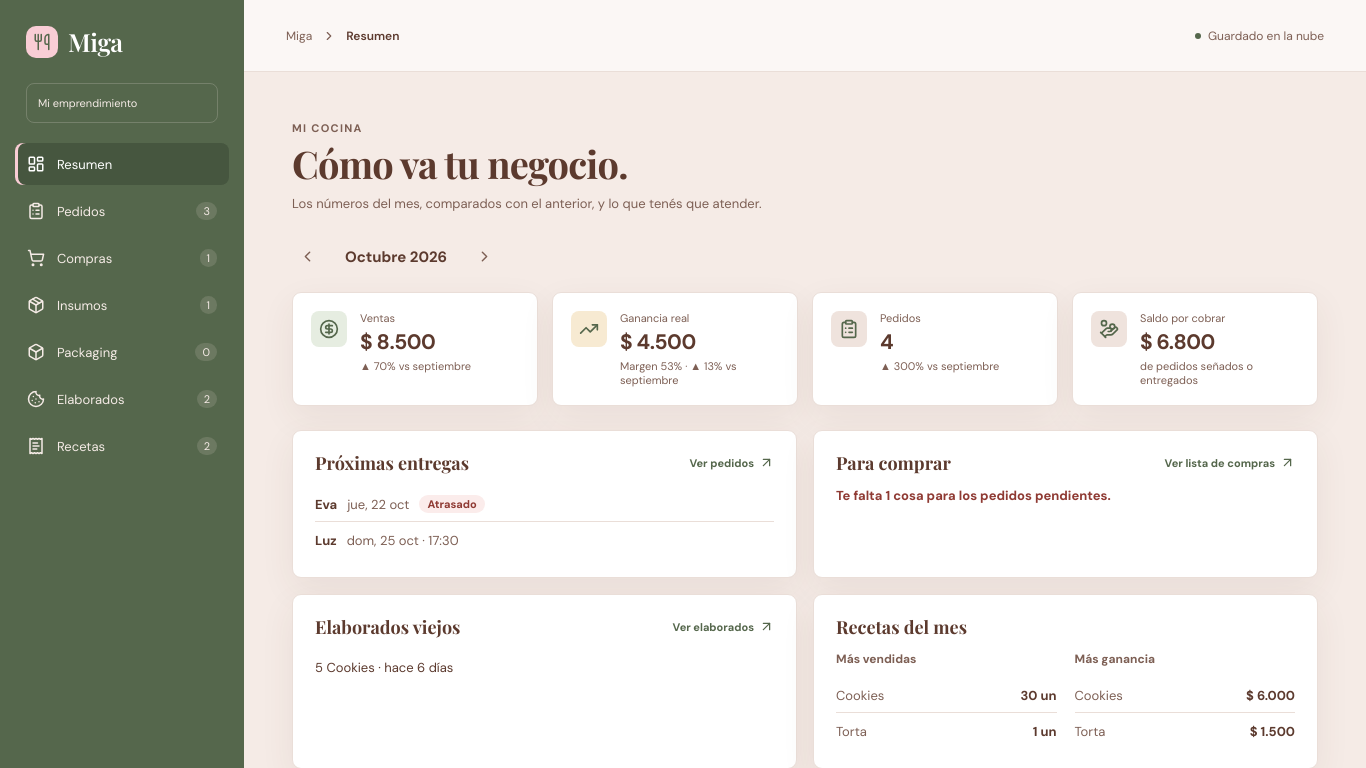
Test: Dashboard › points to the shopping list when something is missing
Check: the element "Para comprar" shows "Te falta 1 cosa para los pedidos pendientes.", box 836,487 -> 1111,504
What coordinates should you click on to do the following:
click the link "Ver lista de compras"
I would click on:
 (1230, 463)
Its box is 1165,451 -> 1295,474.
(page scrolled)
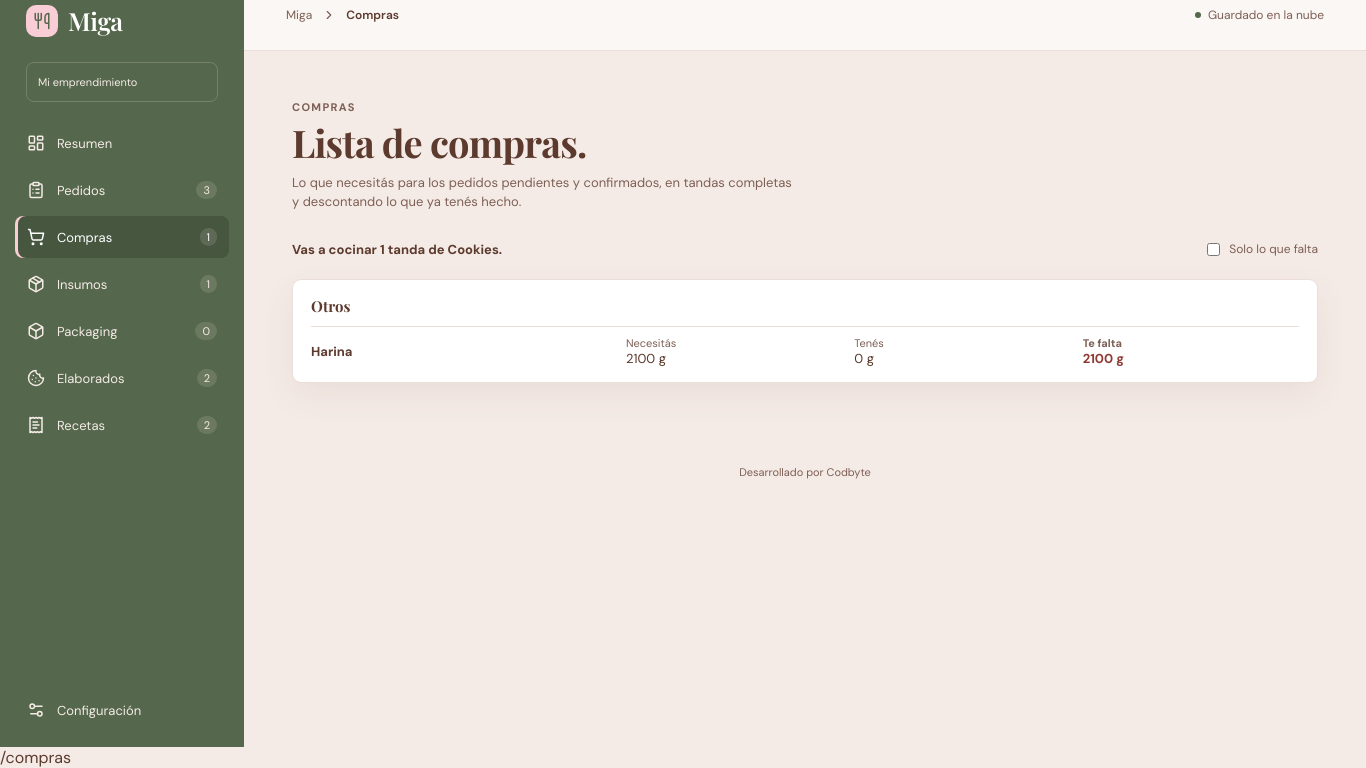
Check: the text with test id "current-path" reads "/compras", box 0,747 -> 71,767
